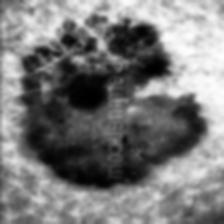Potentially Malignant Skin Tumors: (20, 25, 104, 190)
